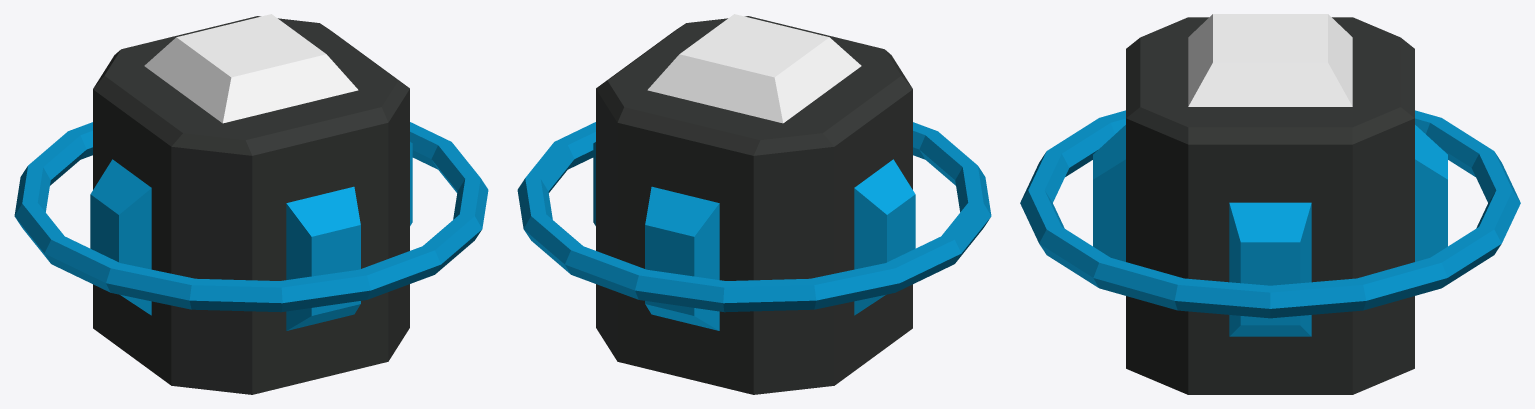
Rendered from LaserTailPoint.fbx.
3 renders of one model, left to right at view 1: azimuth 30°, elevation 25°; view 2: azimuth 150°, elevation 25°; view 3: azimuth 270°, elevation 25°, orthographic. The views are drawn at different scales.
Visible parts, largest first — view 1: LaserTailPoint; view 2: LaserTailPoint; view 3: LaserTailPoint.
Boxes of the visible parts, box(x1,y1,x2,y2) form: LaserTailPoint: box(14, 14, 488, 394); LaserTailPoint: box(517, 14, 991, 394); LaserTailPoint: box(1020, 14, 1520, 394).
Size of the model in its own units: 347 by 226 by 347.
